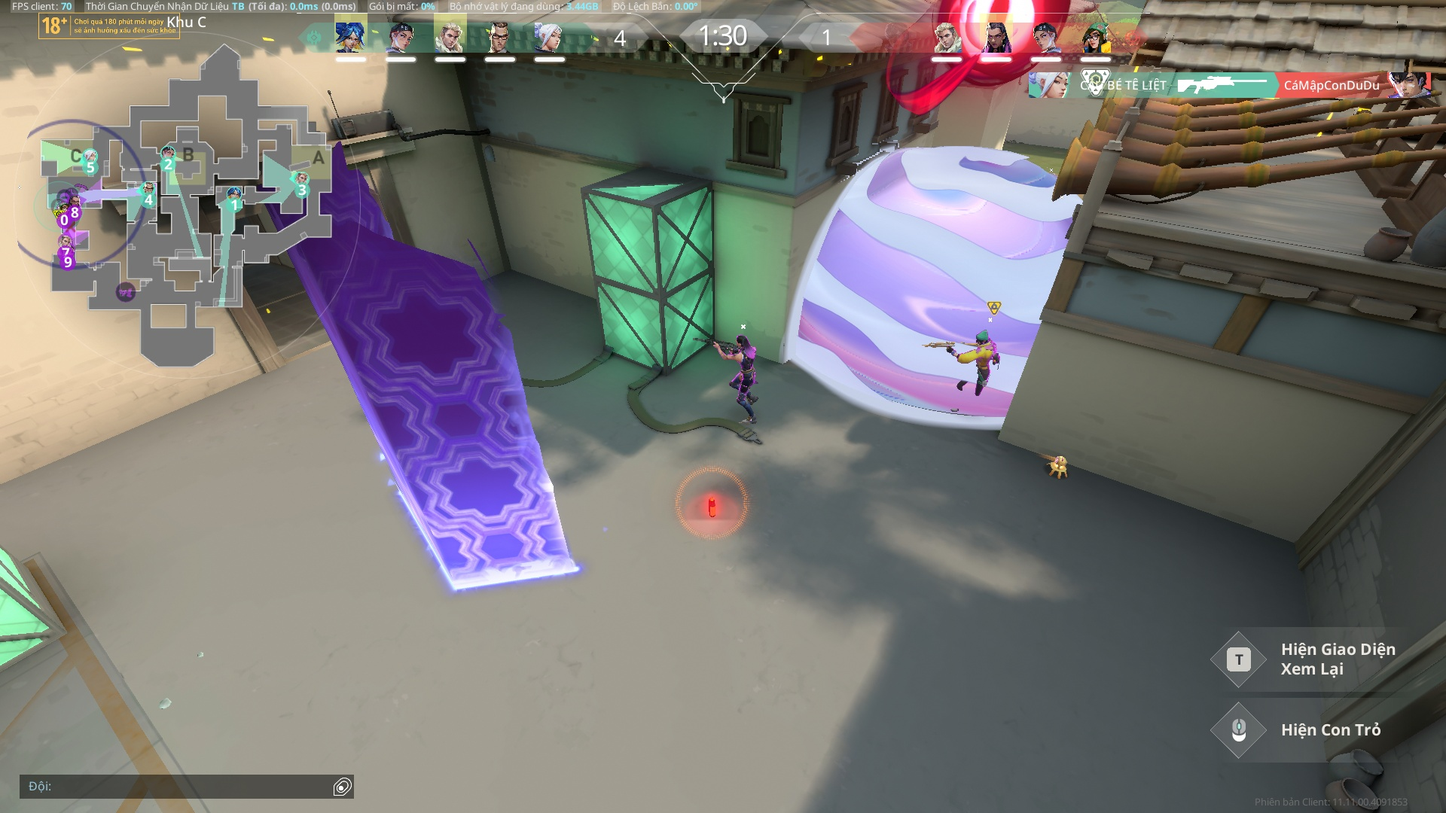body: (971, 341, 996, 367), (737, 346, 755, 367)
head: (735, 333, 748, 348), (974, 333, 989, 345)
